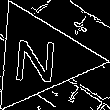N_N: (16, 30, 63, 84)
